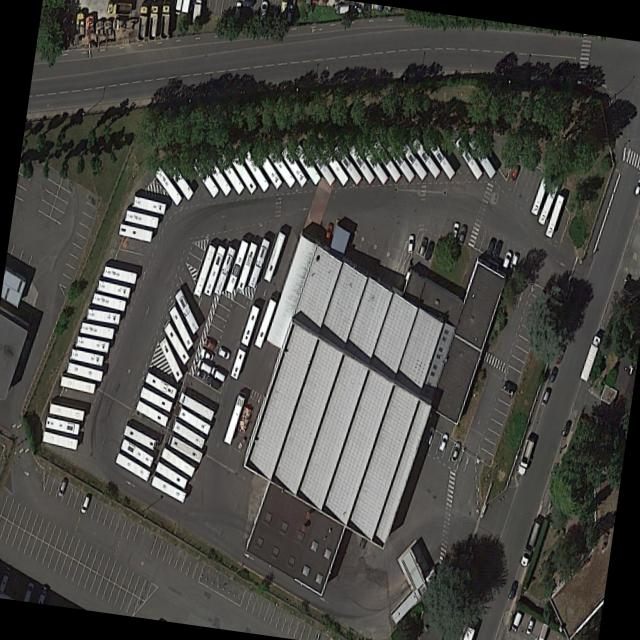large-vehicle: (228, 305, 259, 380), (224, 240, 248, 295), (410, 137, 440, 180), (332, 143, 361, 186), (192, 245, 215, 299), (467, 136, 495, 180), (454, 136, 482, 180), (279, 145, 307, 189), (202, 246, 225, 299), (262, 231, 285, 284), (385, 142, 414, 184), (372, 140, 400, 183), (307, 144, 335, 187), (247, 238, 270, 290), (222, 394, 245, 446), (162, 322, 189, 366), (241, 150, 268, 194), (216, 154, 244, 196), (398, 140, 426, 182), (292, 144, 320, 186), (253, 299, 276, 350), (173, 289, 198, 335), (212, 247, 235, 297), (167, 305, 192, 351), (266, 149, 294, 190), (191, 157, 218, 199), (427, 139, 454, 181), (578, 334, 601, 383), (153, 167, 181, 207), (170, 418, 205, 450), (114, 452, 150, 483), (177, 391, 213, 422), (203, 156, 230, 197), (348, 144, 374, 186), (230, 153, 256, 195), (159, 447, 194, 478), (255, 150, 282, 190), (149, 475, 186, 504), (235, 243, 256, 294), (361, 145, 387, 186), (159, 338, 182, 384), (321, 147, 348, 186), (176, 405, 211, 435), (166, 435, 202, 464), (119, 438, 153, 468), (167, 164, 193, 202), (518, 521, 539, 568), (143, 371, 177, 400), (135, 400, 168, 429), (122, 425, 157, 452), (154, 461, 186, 490), (536, 183, 558, 225), (138, 387, 171, 414), (544, 195, 564, 239), (65, 362, 102, 384), (529, 177, 548, 216), (47, 402, 84, 422), (101, 265, 136, 286), (90, 292, 125, 313), (41, 431, 77, 451), (58, 375, 94, 395), (131, 195, 165, 216), (118, 223, 152, 244), (123, 209, 158, 229), (44, 416, 79, 436), (68, 348, 103, 368), (515, 439, 533, 477), (95, 280, 129, 300), (79, 322, 114, 341), (74, 335, 108, 354), (85, 308, 119, 326)
small-vehicle: (146, 3, 159, 42), (158, 1, 170, 41), (136, 3, 148, 42), (106, 0, 131, 18), (55, 475, 70, 499), (0, 565, 12, 594), (209, 364, 226, 384), (191, 0, 203, 28), (448, 441, 462, 464), (422, 424, 435, 448), (509, 609, 522, 633), (204, 374, 221, 392), (195, 358, 212, 376), (554, 343, 567, 366), (499, 250, 512, 273), (436, 432, 449, 454), (78, 493, 91, 515), (491, 238, 503, 261), (501, 379, 518, 395), (199, 346, 215, 363), (507, 579, 519, 601), (523, 616, 536, 636), (508, 250, 519, 273), (539, 387, 551, 408), (560, 418, 572, 439), (484, 237, 496, 258), (417, 236, 428, 258), (456, 224, 467, 246), (202, 336, 217, 352), (216, 345, 230, 362), (424, 241, 435, 262), (448, 222, 459, 243), (323, 222, 333, 244), (508, 165, 519, 185), (537, 622, 549, 640), (258, 1, 267, 25), (193, 367, 206, 382), (233, 1, 242, 22), (548, 365, 558, 383), (632, 177, 640, 199), (173, 0, 183, 17), (180, 0, 189, 16), (407, 235, 414, 254), (240, 0, 255, 8)
